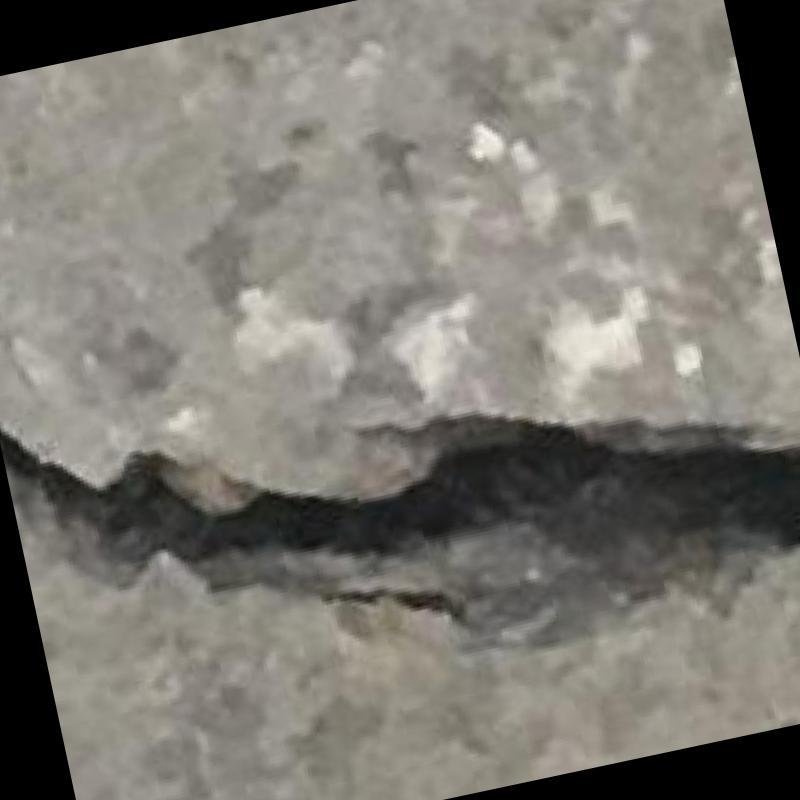pothole: (0, 416, 800, 651)
